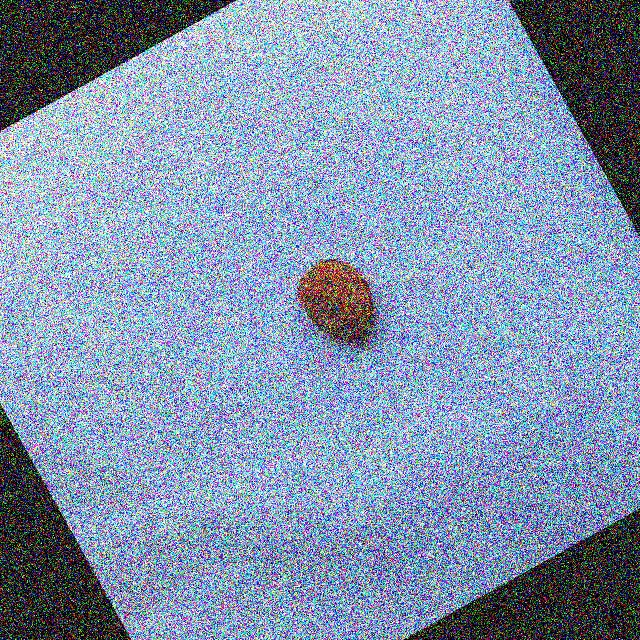grade3: (281, 242, 394, 365)
